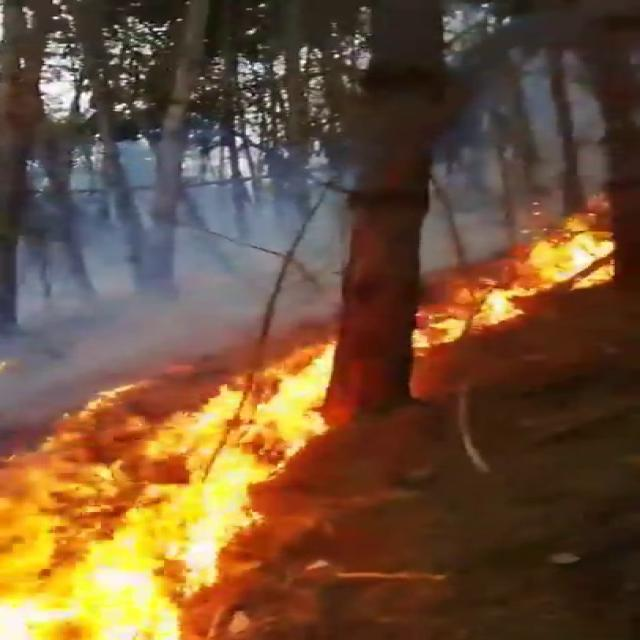Fire: (0, 332, 358, 640), (420, 202, 628, 348)
Smoke: (2, 118, 360, 374)
